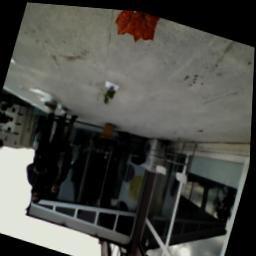herb: (103, 83, 118, 106)
wild: (108, 8, 160, 45)
